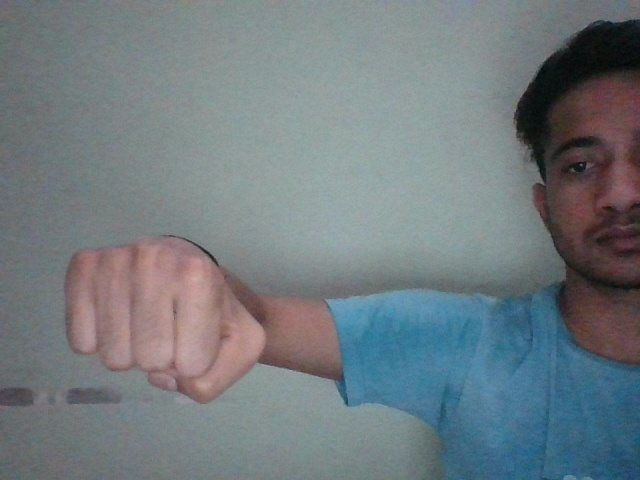yes: (62, 236, 268, 401)
